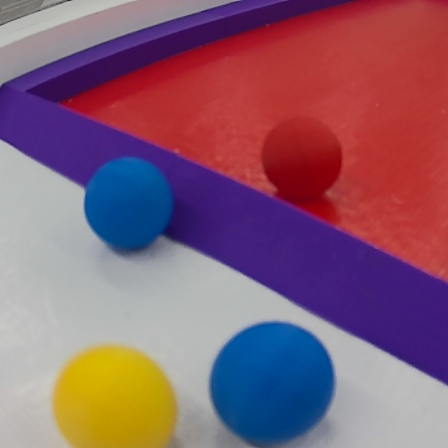blue: (209, 319, 343, 443), (85, 157, 178, 254)
red: (261, 113, 350, 204)
red_aim: (2, 3, 448, 388)
yellow: (55, 345, 181, 447)
